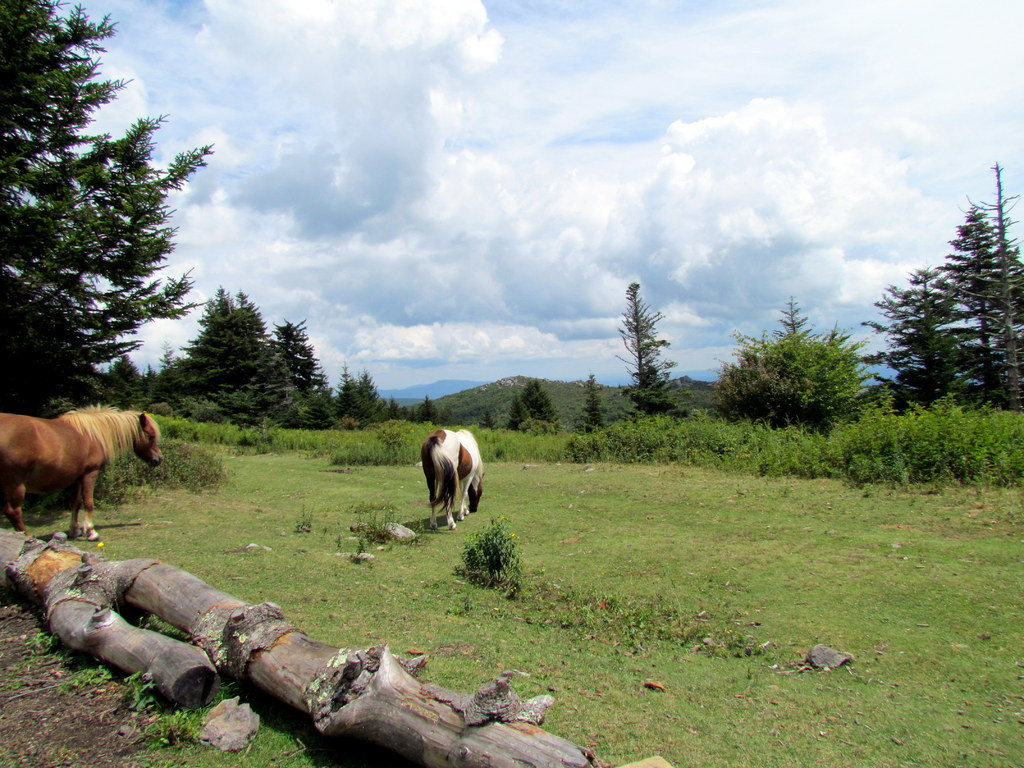horse: (418, 427, 486, 531)
